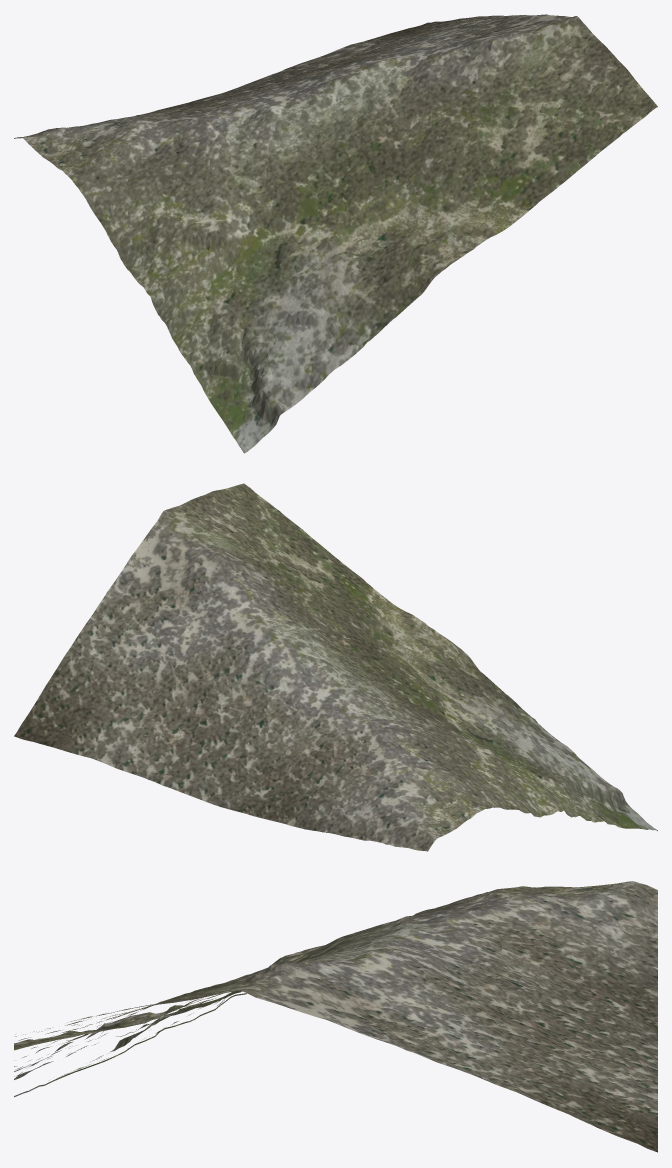
3 renders of one model, top to bottom at view 1: azimuth 30°, elevation 25°; view 2: azimuth 150°, elevation 25°; view 3: azimuth 270°, elevation 25°, orthographic. The views are drawn at different scales.
Bounding box in the file's own units: 500 × 321 × 481.
1 material, 1 textured.
